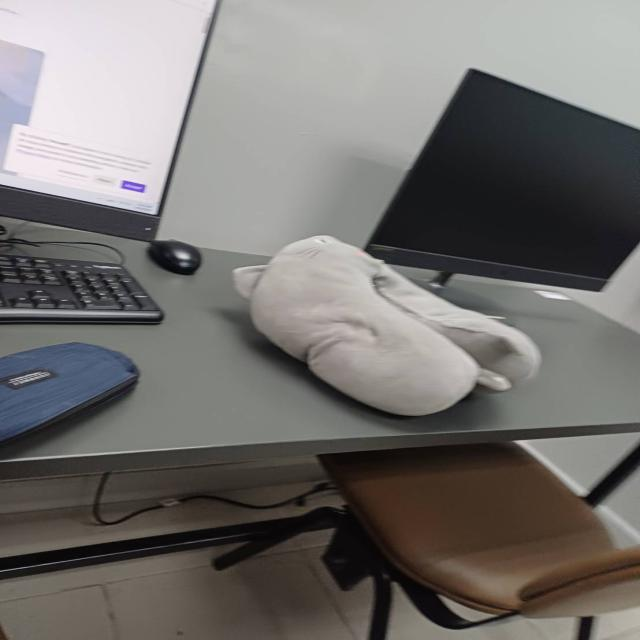pillow: (228, 228, 544, 432)
